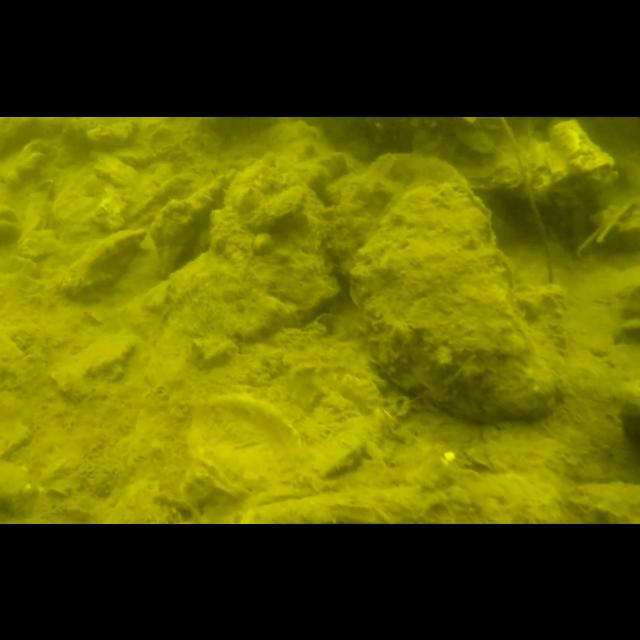Oyster-Closed: (346, 178, 550, 416), (235, 452, 640, 524), (326, 150, 466, 284), (184, 386, 296, 489), (148, 172, 228, 276), (53, 224, 145, 298), (248, 184, 308, 232)
Oyster-Open: (410, 116, 524, 190), (530, 116, 618, 194)
